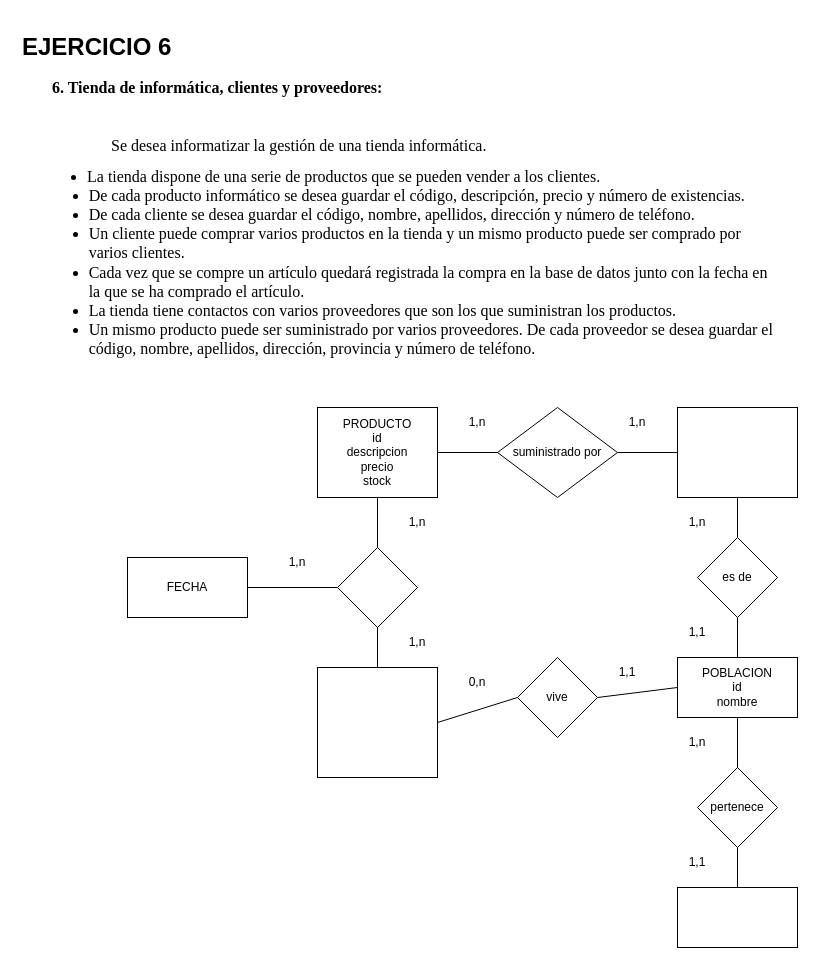
The diagram is 815 pixels wide and 965 high, and some of its shapes have lost their labels. Each missing label, with the centre of its shape:
CLIENTE id nombre apellido1 apellido2(op) direccion telefono: (377,722)
compra: (377,587)
PROVEEDOR id nombre apellido1 apellido2(op) direccion: (737,452)
PROVINCIA id nombre: (737,917)
